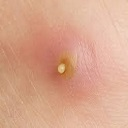Carbuncle: (52, 59, 73, 82)
